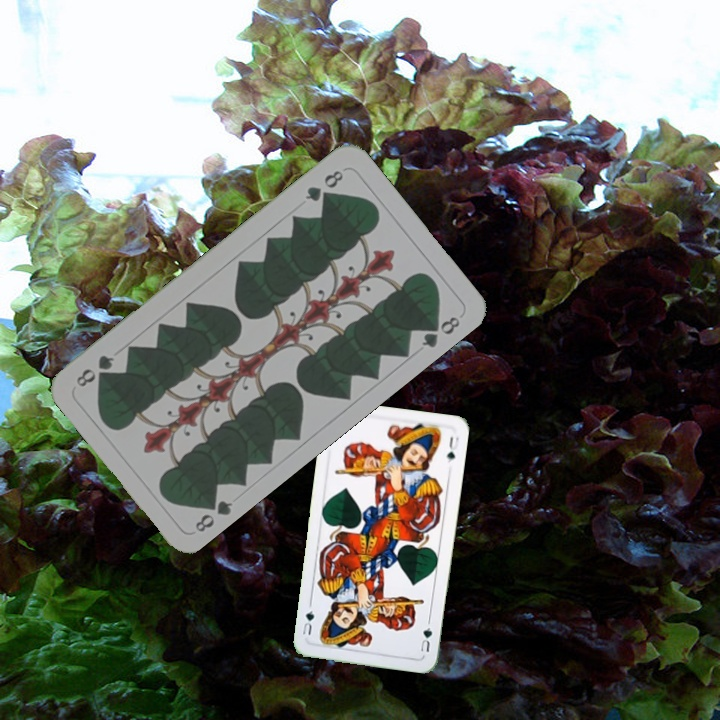G8: (190, 492, 235, 535), (301, 166, 347, 205)
GU: (417, 617, 435, 654)
